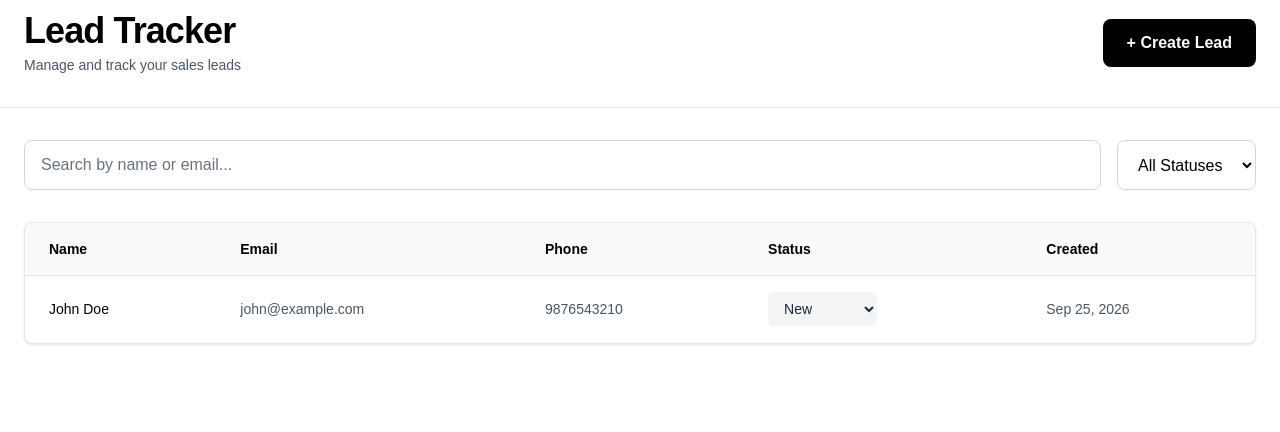
Test: Lead Tracker page › shows the API error when a status update fails
Expected: the text "John Doe" is shown, [25, 276, 216, 342]
Select "Lost" in the dropdown named "Status for John Doe". click: (822, 309)
box: [768, 292, 877, 326]
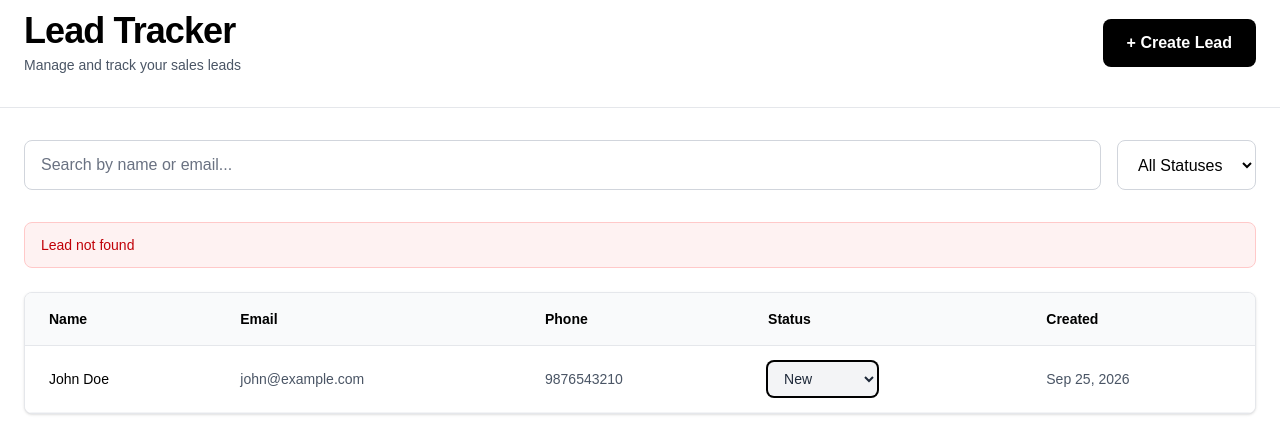
Result: the message reads "Lead not found" at [41, 237, 134, 253]
